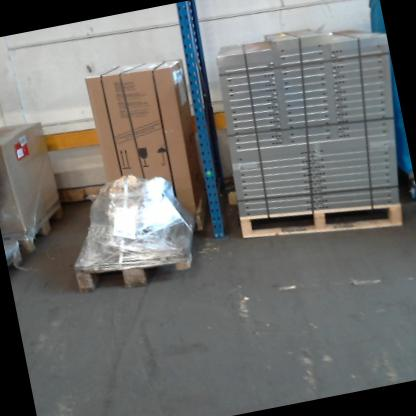pallet: (235, 182, 407, 257), (69, 215, 207, 299), (10, 203, 71, 256)
